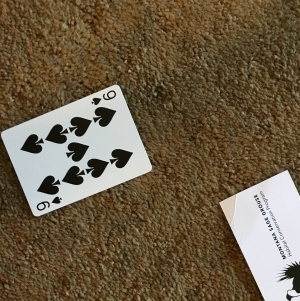card: (2, 84, 153, 217)
